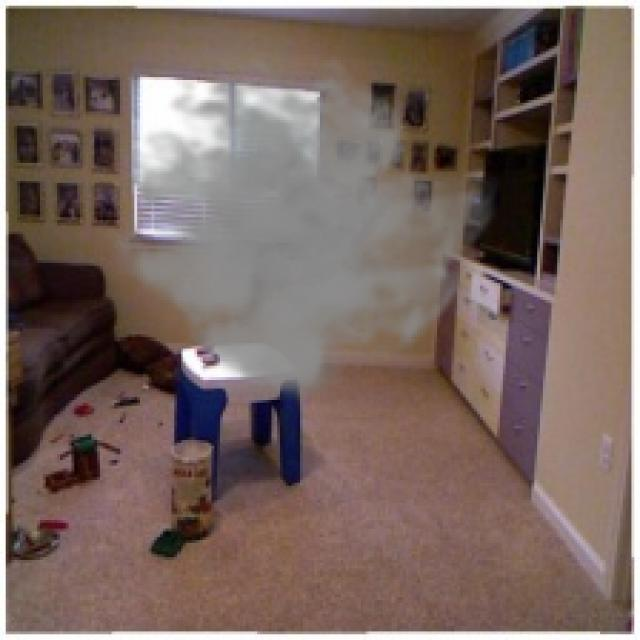smoke: (94, 54, 503, 403)
